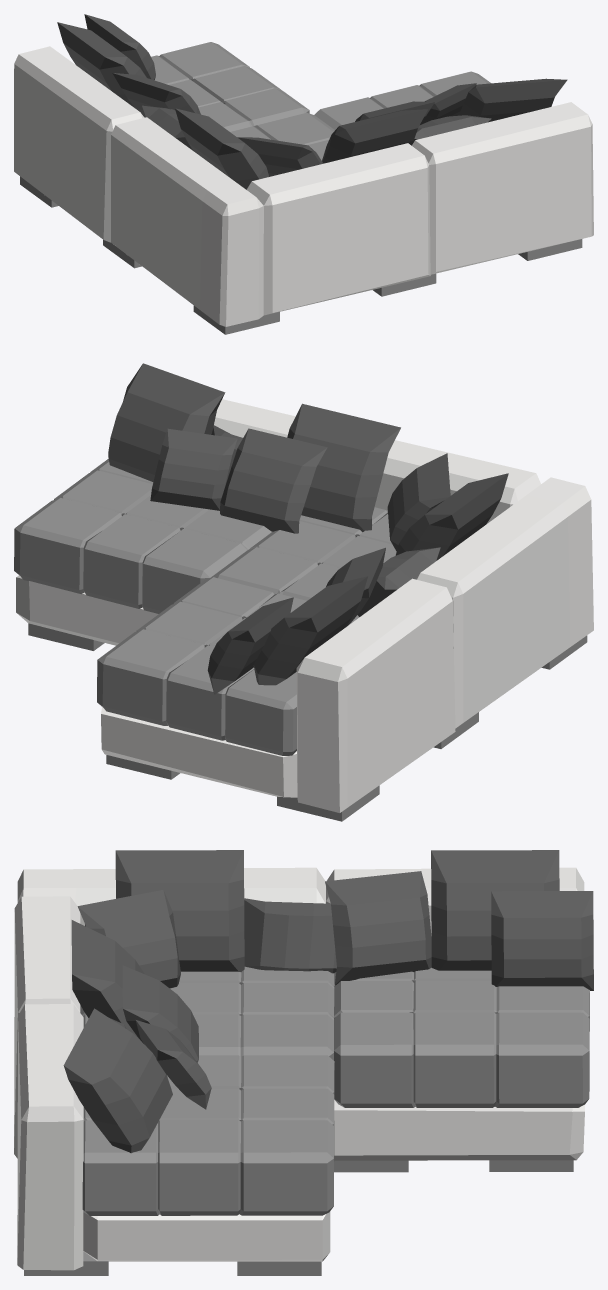
File: Couch_2.fbx
3 renders of one model, top to bottom at view 1: azimuth 30°, elevation 25°; view 2: azimuth 150°, elevation 25°; view 3: azimuth 270°, elevation 25°, orthographic. The views are drawn at different scales.
Parts seen in each view (by area): view 1: Couch_2; view 2: Couch_2; view 3: Couch_2.
Boxes of the visible parts, box(x1,y1,x2,y2) form: Couch_2: box(14, 14, 593, 334); Couch_2: box(14, 363, 593, 821); Couch_2: box(14, 850, 593, 1275).
Size of the model in its own units: 318 by 319 by 131.
